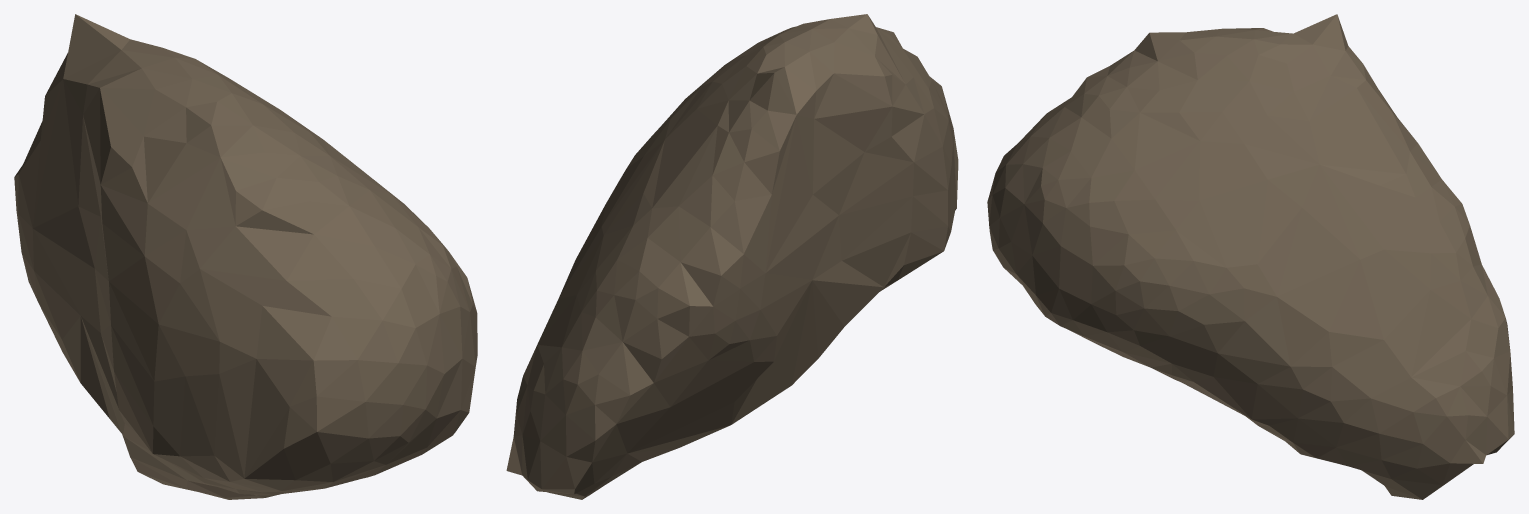
Rendered from Model_10511_LH__Principal_sensory_trigeminal_nucleus_(Pr5).obj.
3 renders of one model, left to right at view 1: azimuth 30°, elevation 25°; view 2: azimuth 150°, elevation 25°; view 3: azimuth 270°, elevation 25°, orthographic. The views are drawn at different scales.
Size of the model in its own units: 0.6964 by 1.07 by 1.24.
